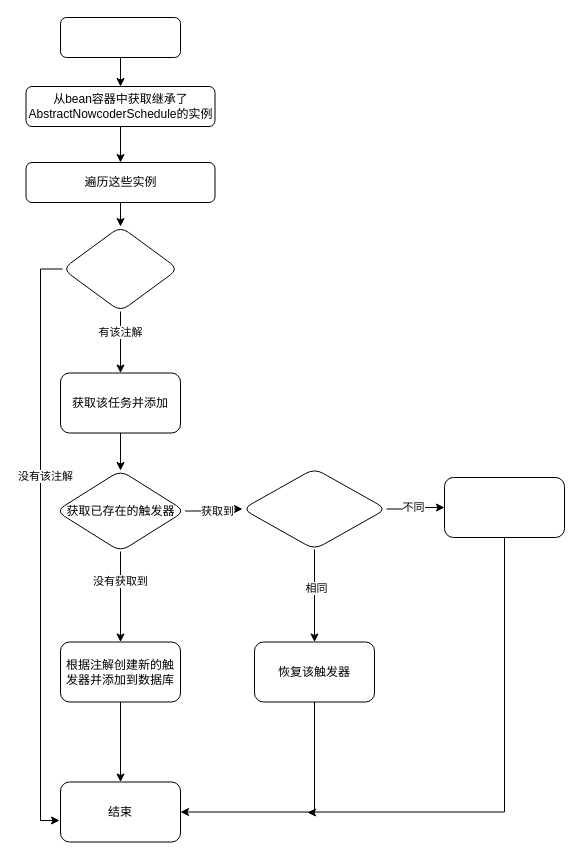
Some shapes in this 582 by 860 pixel diagram are drawn without their labels. Each missing label, with the box of its shape:
判断corn表达式是否相同: (242, 468, 386, 550)
开始: (60, 16, 180, 58)
更新该触发器: (444, 476, 564, 538)
获取实例上的NowcoderCtsSchedule注解: (62, 226, 178, 312)
